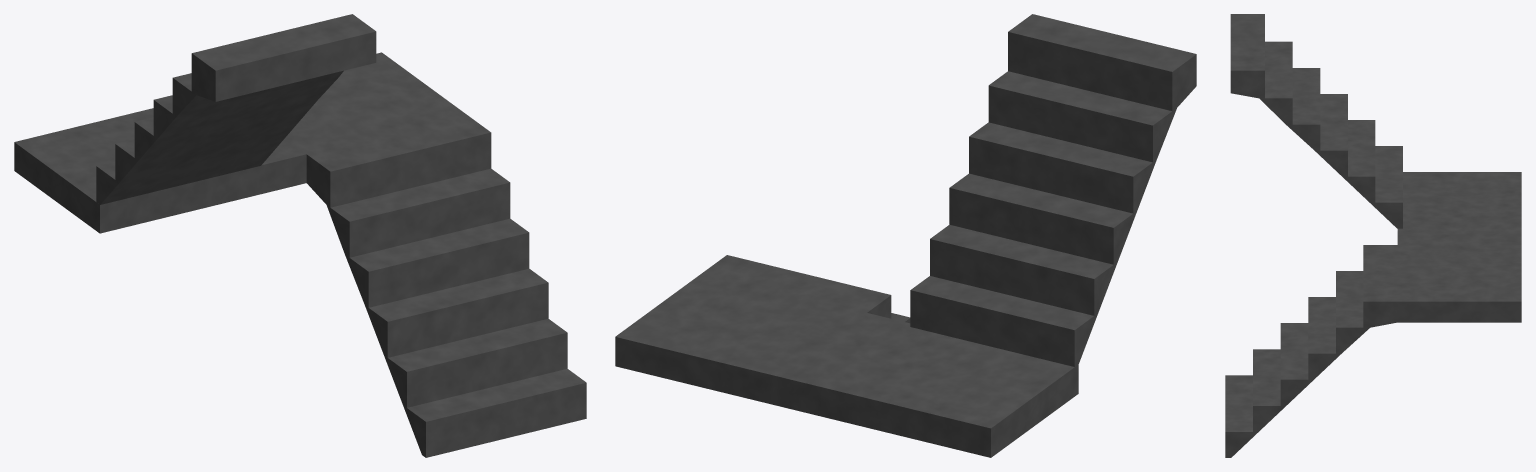
Rendered from deadendStairwell.glb.
3 views of the same model, side by side, from view 1: azimuth 30°, elevation 25°; view 2: azimuth 150°, elevation 25°; view 3: azimuth 270°, elevation 25° (orthographic). The views are drawn at different scales.
Parts seen in each view (by area): view 1: Cube.002; view 2: Cube.002; view 3: Cube.002.
Boxes of the visible parts, <box> form: Cube.002: <box>14,14,586,457</box>; Cube.002: <box>615,14,1196,457</box>; Cube.002: <box>1225,14,1521,457</box>.
Bounding box in the file's own units: 8 × 9.05 × 7.73.
1 material, 1 textured.
